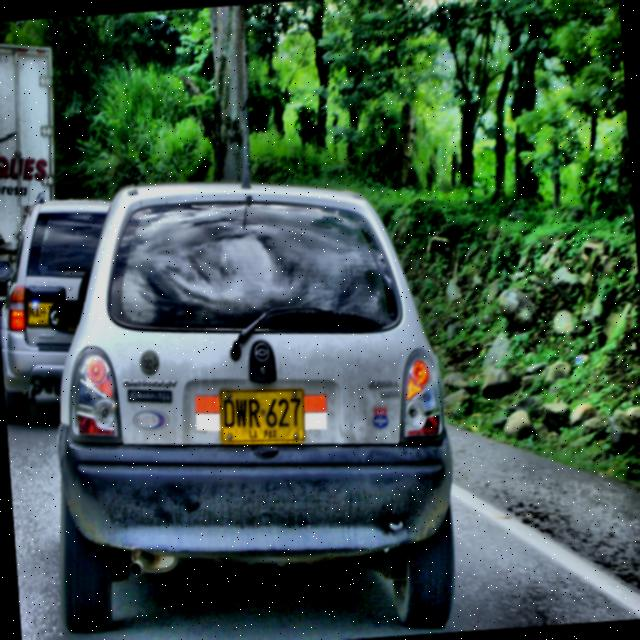plate: (219, 388, 305, 444)
